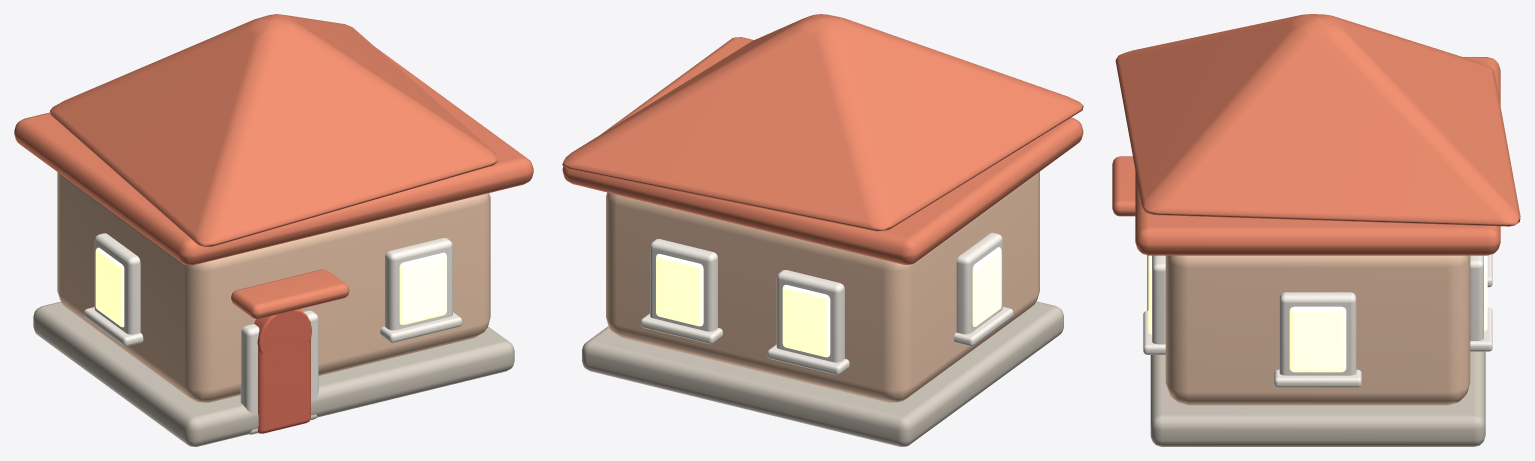
3 views of the same model, side by side, from view 1: azimuth 30°, elevation 25°; view 2: azimuth 150°, elevation 25°; view 3: azimuth 270°, elevation 25° (orthographic). The views are drawn at different scales.
Visible parts, largest first — view 1: Cube; view 2: Cube; view 3: Cube.
Part boxes in pixels (x1=…): Cube: x1=14, y1=14, x2=533, y2=446; Cube: x1=562, y1=14, x2=1083, y2=446; Cube: x1=1112, y1=14, x2=1520, y2=446.
Bounding box in the file's own units: 0.56 × 0.5055 × 0.536.
